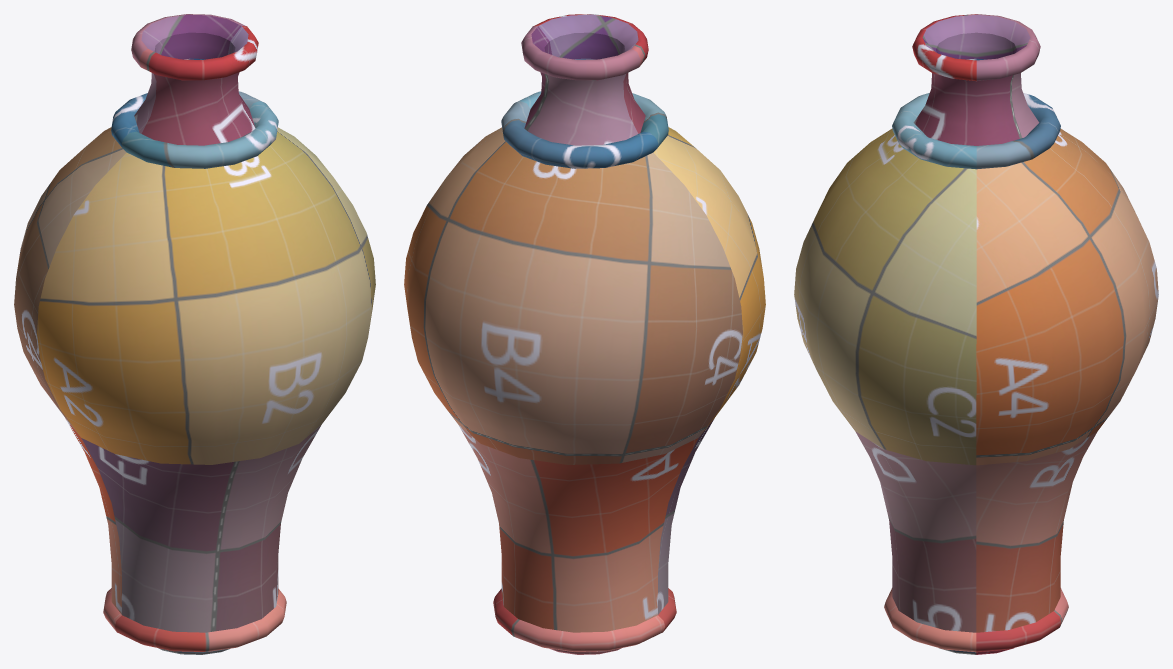
File: LargeVase_SHAT.fbx
3 renders of one model, left to right at view 1: azimuth 30°, elevation 25°; view 2: azimuth 150°, elevation 25°; view 3: azimuth 270°, elevation 25°, orthographic.
Visible parts, largest first — view 1: LargeVase_SHAT.001; view 2: LargeVase_SHAT.001; view 3: LargeVase_SHAT.001.
Part boxes in pixels (left/top/right/bottom): LargeVase_SHAT.001: left=14, top=14, right=375, bottom=654; LargeVase_SHAT.001: left=404, top=14, right=765, bottom=654; LargeVase_SHAT.001: left=794, top=14, right=1158, bottom=654.
Bounding box in the file's own units: 1.69 × 3.04 × 1.69.
Materials: 1 (1 with a texture image).
